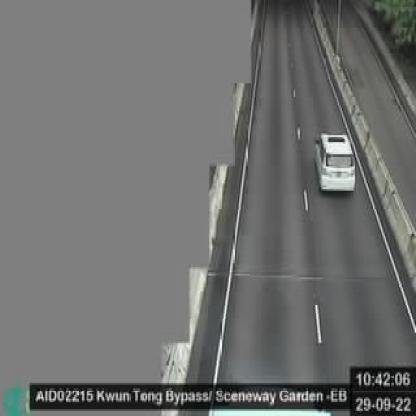Car: (310, 123, 358, 201)
